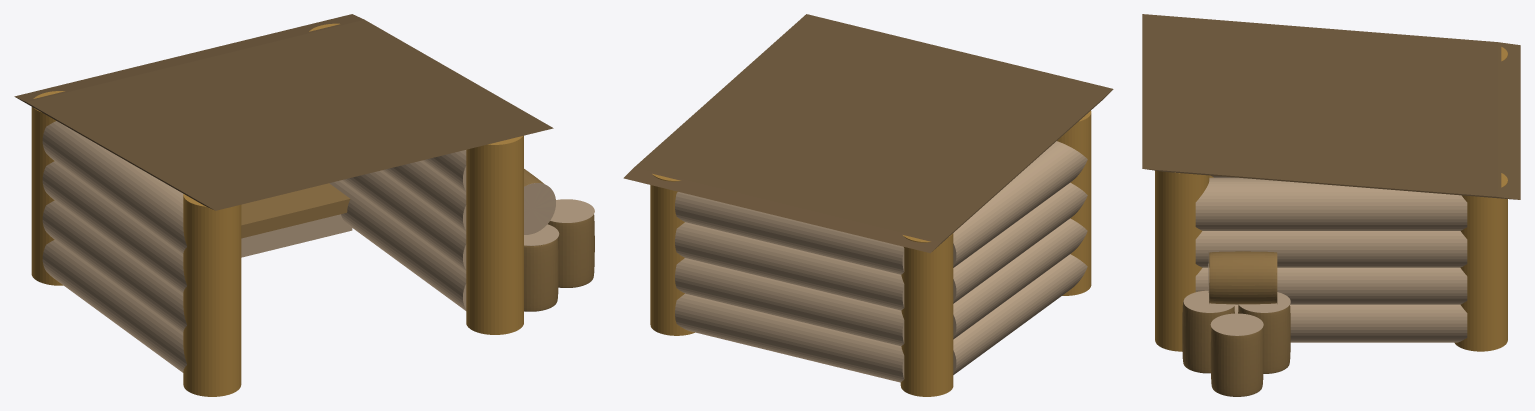
The model's file is Smashing Snicket (2).glb.
3 renders of one model, left to right at view 1: azimuth 30°, elevation 25°; view 2: azimuth 150°, elevation 25°; view 3: azimuth 270°, elevation 25°, orthographic. The views are drawn at different scales.
Parts seen in each view (by area): view 1: Mesh_Mesh_head_geo.001_lambert2SG.001; view 2: Mesh_Mesh_head_geo.001_lambert2SG.001; view 3: Mesh_Mesh_head_geo.001_lambert2SG.001.
Boxes of the visible parts, x1=… form: Mesh_Mesh_head_geo.001_lambert2SG.001: x1=14, y1=14, x2=594, y2=396; Mesh_Mesh_head_geo.001_lambert2SG.001: x1=623, y1=14, x2=1113, y2=396; Mesh_Mesh_head_geo.001_lambert2SG.001: x1=1142, y1=14, x2=1520, y2=396.
Size of the model in its own units: 0.034 by 0.0153 by 0.0279.
